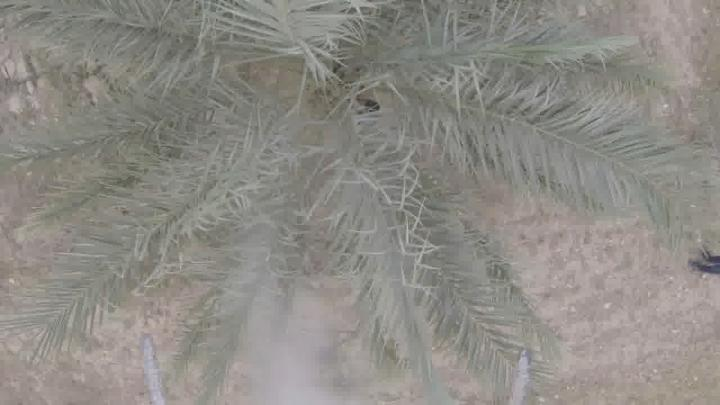Date-Palm-Crown: (122, 0, 474, 312)
